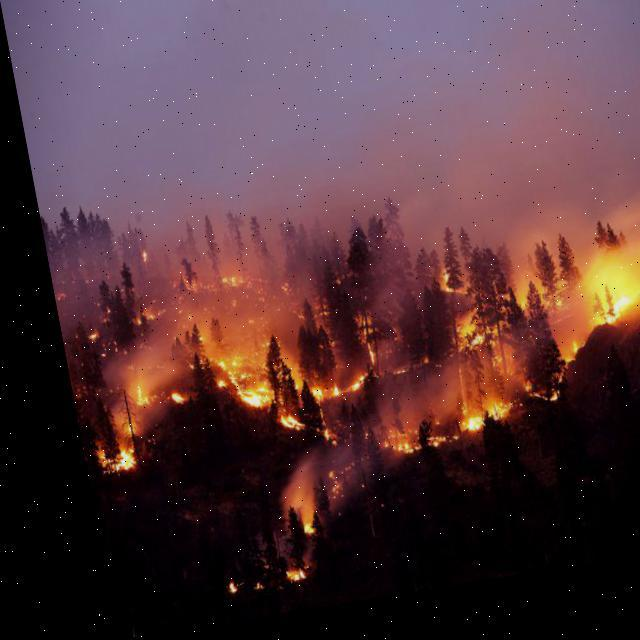Fire: (59, 229, 360, 475), (413, 240, 639, 443)
